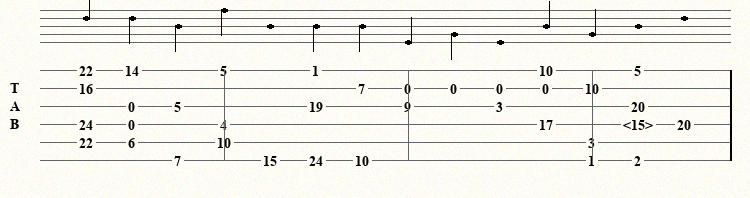0: (128, 117, 139, 131), (128, 99, 139, 113), (404, 81, 415, 95), (450, 81, 461, 95), (496, 81, 507, 95), (542, 81, 553, 95)
1: (312, 63, 323, 77), (588, 153, 599, 167)
10: (217, 135, 235, 149), (355, 153, 373, 167), (539, 63, 557, 77), (585, 81, 603, 95)
14: (125, 63, 143, 77)
15: (263, 153, 281, 167)
16: (79, 81, 97, 95)
17: (539, 117, 557, 131)
19: (309, 99, 327, 113)
2: (634, 153, 645, 167)
20: (631, 99, 649, 113), (677, 117, 695, 131)
22: (79, 63, 97, 77), (79, 135, 97, 149)
24: (79, 117, 97, 131), (309, 153, 327, 167)
3: (496, 99, 507, 113), (588, 135, 599, 149)
4: (220, 117, 231, 131)
5: (174, 99, 185, 113), (220, 63, 231, 77), (634, 63, 645, 77)
6: (128, 135, 139, 149)
7: (174, 153, 185, 167), (358, 81, 369, 95)
9: (404, 99, 415, 113)
harmonic: (623, 117, 657, 131)
